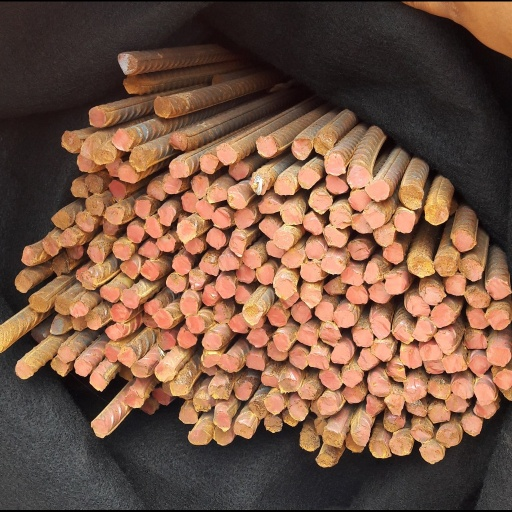dipstick: (329, 336, 356, 366), (437, 424, 464, 450), (430, 303, 456, 328), (403, 379, 428, 404), (115, 51, 142, 74), (435, 332, 462, 355), (110, 127, 135, 151), (484, 309, 511, 331), (347, 165, 371, 189), (459, 257, 483, 281), (318, 369, 342, 393), (309, 189, 332, 214), (461, 328, 486, 351), (453, 377, 478, 400), (420, 443, 445, 466), (300, 282, 322, 308), (407, 254, 434, 275), (412, 318, 435, 342), (227, 232, 250, 256), (78, 270, 102, 293), (450, 230, 475, 252), (486, 278, 511, 300), (280, 202, 302, 227), (323, 226, 348, 248), (205, 183, 231, 204), (273, 278, 299, 299), (215, 141, 238, 164), (402, 185, 425, 208), (264, 305, 287, 328), (166, 271, 188, 295), (319, 324, 341, 348), (340, 367, 364, 389), (423, 204, 448, 225), (394, 208, 415, 233), (328, 206, 353, 227), (370, 316, 391, 341), (321, 253, 346, 274), (300, 262, 325, 283), (390, 436, 415, 457), (432, 256, 458, 276), (381, 243, 404, 265), (189, 174, 211, 197), (341, 265, 364, 287), (205, 228, 227, 251), (460, 415, 483, 437), (442, 275, 466, 296), (442, 354, 466, 375), (216, 275, 237, 299), (303, 211, 324, 235), (428, 401, 452, 422), (314, 396, 338, 417), (153, 331, 177, 352), (382, 413, 406, 434), (466, 288, 491, 308), (384, 274, 409, 294), (464, 309, 489, 329), (232, 208, 257, 228), (55, 227, 82, 245), (422, 284, 444, 306), (75, 208, 97, 230), (144, 215, 166, 237), (357, 349, 379, 371), (263, 393, 285, 415), (290, 137, 311, 160), (368, 180, 391, 201), (297, 167, 320, 188), (286, 399, 309, 420), (322, 427, 345, 448), (326, 174, 350, 194), (187, 426, 211, 446), (140, 259, 164, 279), (486, 348, 511, 367), (323, 278, 348, 297), (153, 95, 174, 117), (256, 135, 277, 157), (226, 186, 247, 208), (258, 262, 279, 284), (85, 372, 107, 393), (233, 417, 254, 439), (88, 105, 108, 128), (326, 151, 346, 174), (119, 257, 142, 277), (395, 320, 415, 343), (348, 238, 371, 258), (272, 177, 296, 196), (347, 285, 371, 304), (199, 286, 220, 307), (314, 300, 335, 321), (351, 426, 372, 447), (351, 213, 373, 233), (399, 348, 421, 368), (272, 229, 294, 249), (177, 330, 199, 350), (52, 296, 74, 316), (334, 308, 356, 328), (372, 341, 394, 361), (232, 379, 252, 401), (240, 250, 263, 269), (445, 392, 468, 411), (411, 425, 434, 444), (300, 428, 319, 451), (265, 241, 288, 260), (130, 147, 148, 171), (364, 259, 382, 283), (80, 138, 101, 158), (199, 152, 219, 173), (176, 221, 196, 242), (406, 297, 427, 317), (266, 342, 287, 362), (123, 389, 144, 409), (277, 376, 298, 396), (264, 414, 285, 434), (368, 377, 389, 397), (49, 256, 71, 275), (369, 283, 391, 302), (351, 330, 373, 349), (320, 371, 342, 390), (199, 256, 221, 275), (228, 161, 251, 179), (183, 315, 206, 333), (40, 235, 60, 255), (230, 313, 250, 333), (472, 404, 497, 420), (59, 130, 80, 149), (148, 179, 167, 200), (153, 309, 174, 328), (154, 363, 175, 382), (272, 333, 293, 352), (386, 364, 407, 383), (112, 240, 134, 258), (258, 196, 280, 214), (209, 381, 231, 399), (371, 442, 393, 460), (233, 210, 256, 227), (84, 173, 103, 193), (86, 243, 106, 262), (493, 371, 512, 391), (197, 198, 216, 218), (180, 194, 200, 213), (246, 353, 265, 373), (122, 76, 143, 94), (167, 160, 188, 178), (15, 271, 33, 292), (157, 204, 175, 225), (374, 227, 395, 245), (247, 330, 268, 348), (49, 359, 71, 376), (427, 382, 450, 398), (90, 150, 116, 164), (157, 234, 176, 253), (69, 314, 88, 333), (168, 131, 188, 149), (69, 180, 89, 198), (109, 180, 127, 200), (173, 255, 191, 275), (298, 330, 318, 348), (307, 355, 331, 370), (50, 211, 72, 227), (28, 297, 51, 312), (191, 396, 214, 411), (162, 175, 181, 193), (86, 194, 104, 213), (100, 285, 119, 303), (92, 421, 111, 439), (221, 355, 240, 373), (293, 304, 311, 323), (315, 134, 332, 154), (21, 247, 41, 264), (127, 225, 147, 242), (180, 295, 197, 315), (55, 346, 75, 363), (103, 344, 120, 364), (167, 382, 187, 399), (137, 242, 159, 257), (51, 319, 73, 334), (351, 192, 369, 210), (221, 253, 239, 271), (179, 406, 197, 424), (74, 358, 91, 377), (234, 286, 251, 305), (259, 375, 279, 391), (298, 384, 318, 400), (424, 360, 445, 375), (185, 237, 203, 254), (304, 241, 321, 259), (121, 290, 140, 306), (15, 361, 31, 380), (129, 363, 150, 377), (78, 155, 95, 172), (135, 201, 152, 218), (105, 324, 122, 341), (214, 414, 230, 432), (67, 302, 86, 317), (142, 300, 160, 315), (85, 313, 101, 329), (121, 348, 134, 367)
